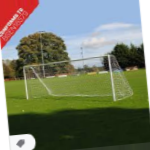goals: (22, 52, 134, 104)
